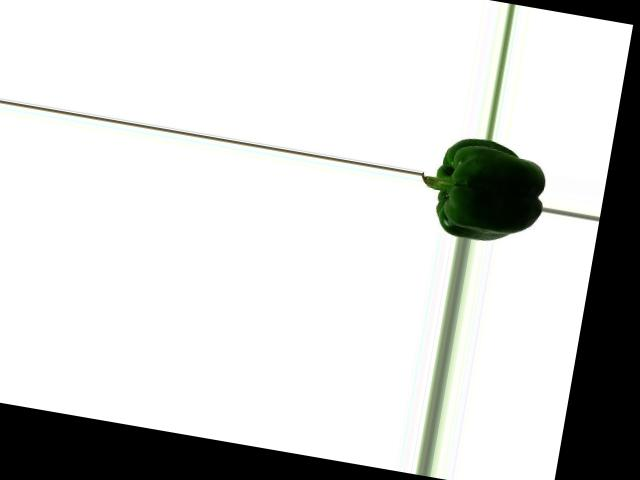bell_pepper: (415, 131, 552, 248)
